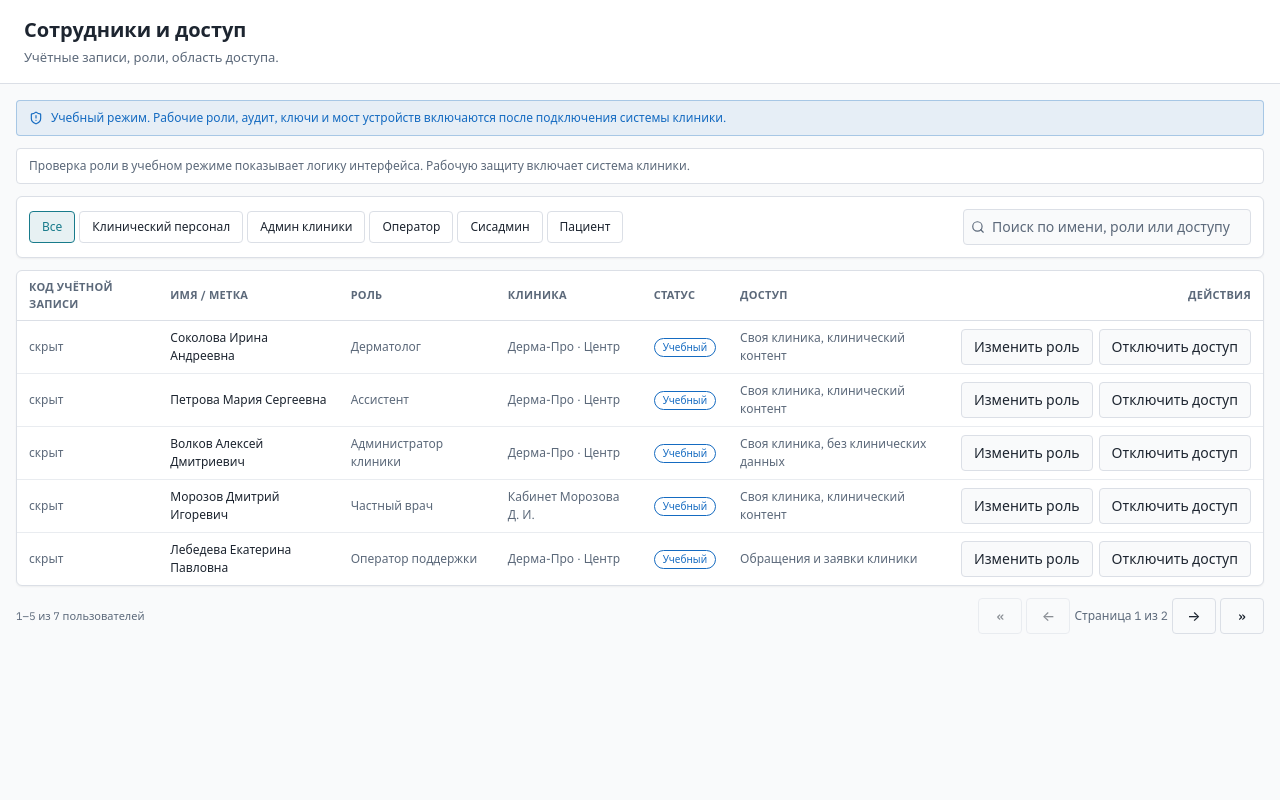
Scenario: Sys pages — render & safety › SysUsersPage shows patient-safe label and not patient full name
Click the tab "Пациент".
click(585, 227)  # box [546,211,623,243]
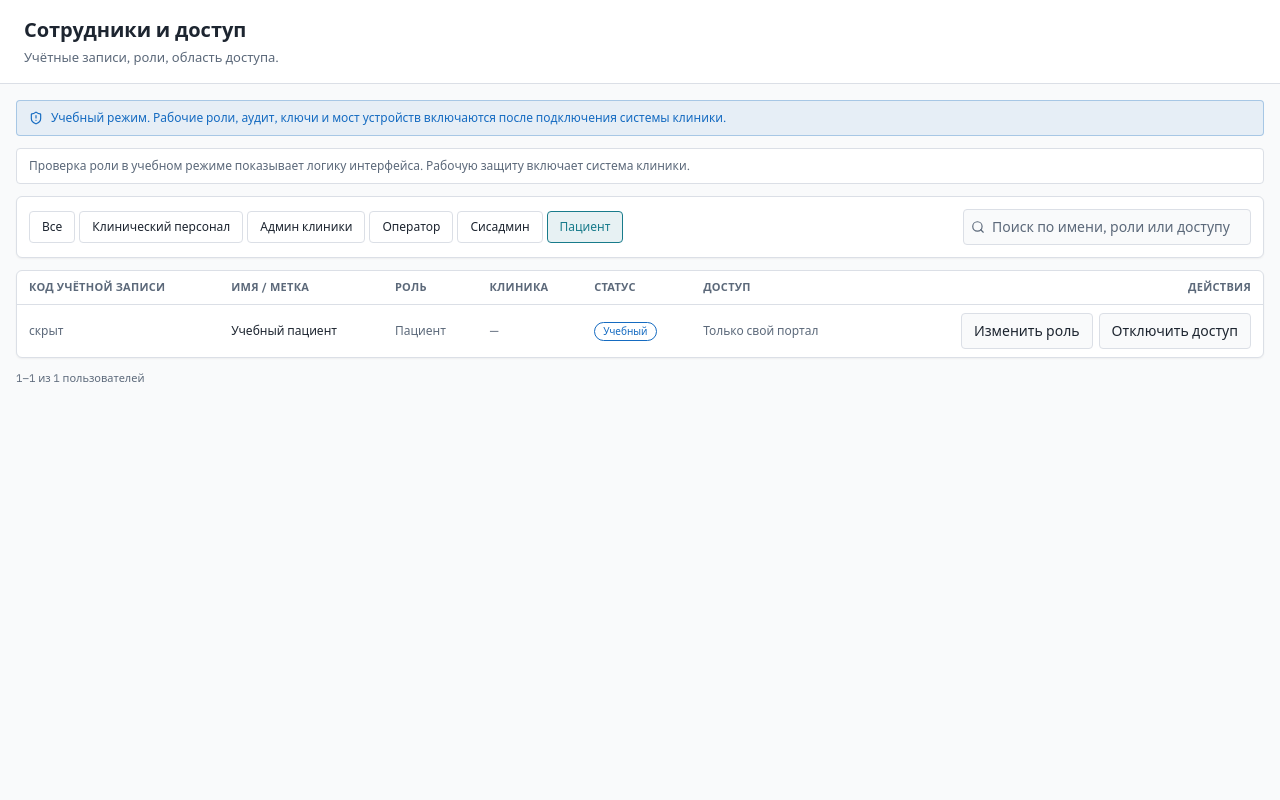
Expected: the text "Учебный пациент" is shown, [219,304,383,356]
